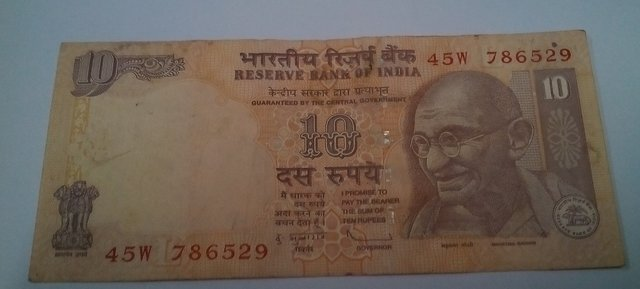ten_rupees_note: (30, 41, 626, 283)
